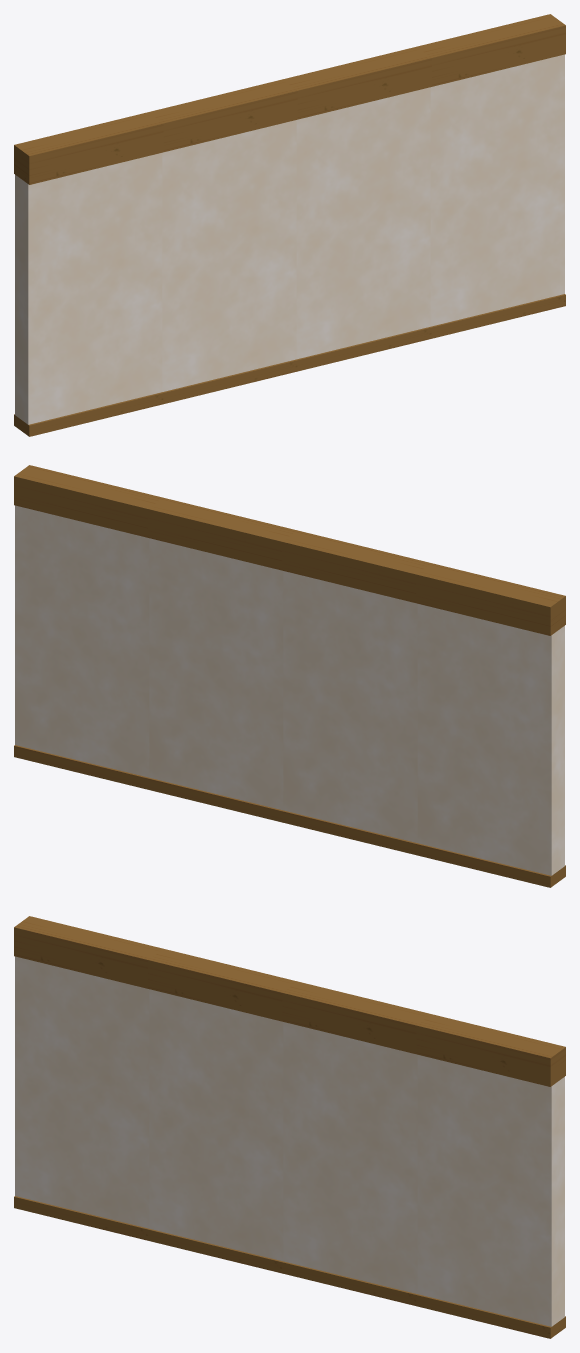
The model's file is wall_4.fbx.
3 views of the same model, one above another, from view 1: azimuth 30°, elevation 25°; view 2: azimuth 150°, elevation 25°; view 3: azimuth 330°, elevation 25° (orthographic).
Parts seen in each view (by area): view 1: wall04; view 2: wall04; view 3: wall04.
Part boxes in pixels (<box>): wall04: <box>14,14,565,436</box>; wall04: <box>14,465,565,887</box>; wall04: <box>14,916,565,1338</box>.
Bounding box in the file's own units: 400 × 200 × 20.
